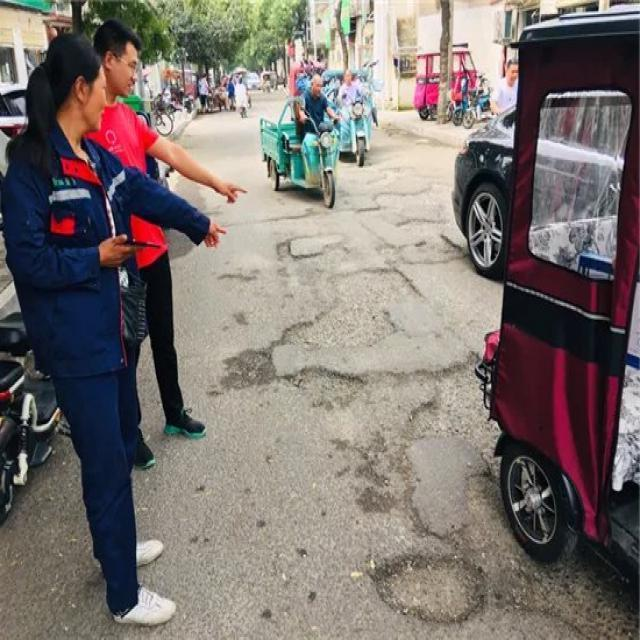pothole: (281, 264, 423, 347), (375, 553, 483, 622), (288, 363, 366, 407)
